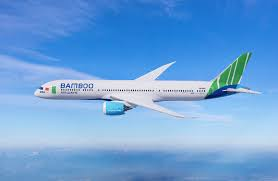maybay_dansu: (26, 59, 262, 121)
